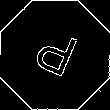P_SW: (28, 25, 82, 85)
